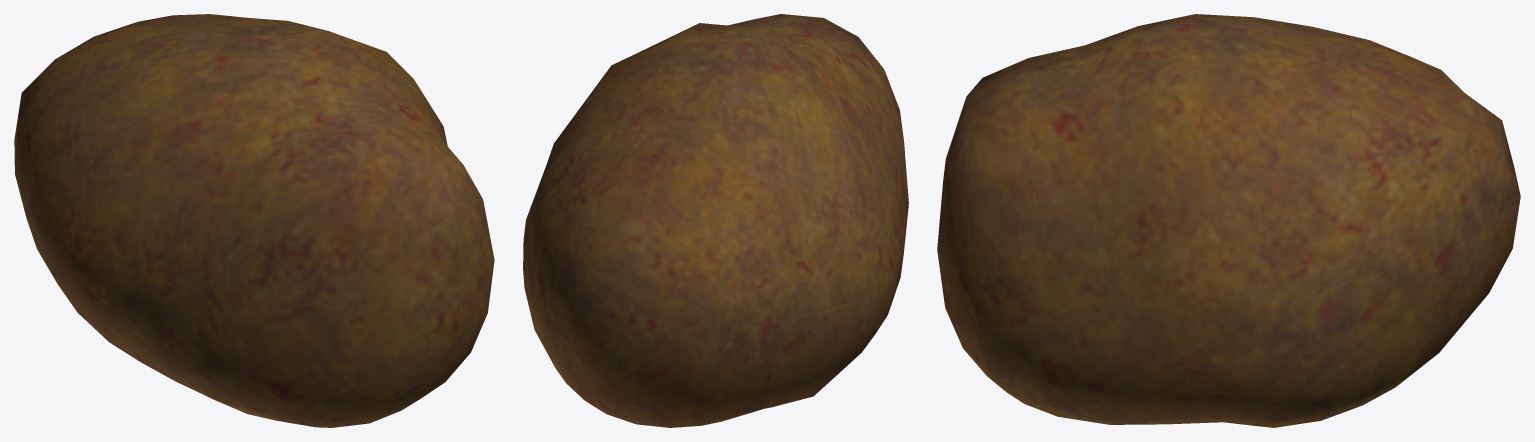
File: Potato_10.obj
3 views of the same model, side by side, from view 1: azimuth 30°, elevation 25°; view 2: azimuth 150°, elevation 25°; view 3: azimuth 270°, elevation 25° (orthographic). The views are drawn at different scales.
Parts seen in each view (by area): view 1: potato_a10; view 2: potato_a10; view 3: potato_a10.
Part boxes in pixels (x1,y1,x2,y2): potato_a10: (14, 14, 494, 427); potato_a10: (523, 14, 908, 427); potato_a10: (937, 14, 1520, 427).
Size of the model in its own units: 0.0699 by 0.0645 by 0.0932.
